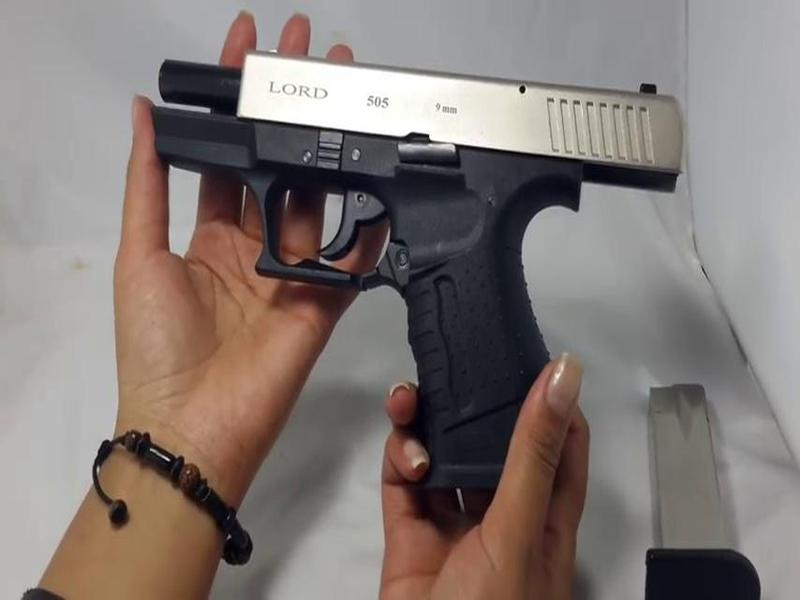Pistola: (103, 33, 699, 503)
